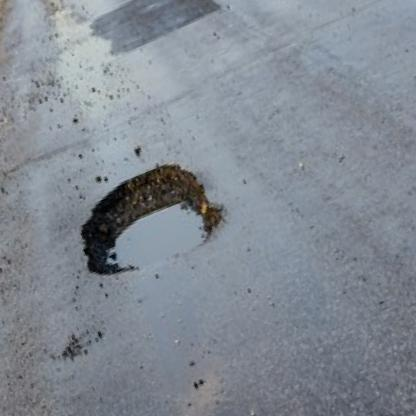pothole: (59, 146, 236, 295)
